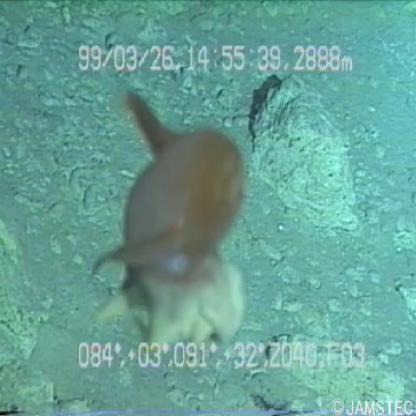Bio: (85, 84, 253, 356)
